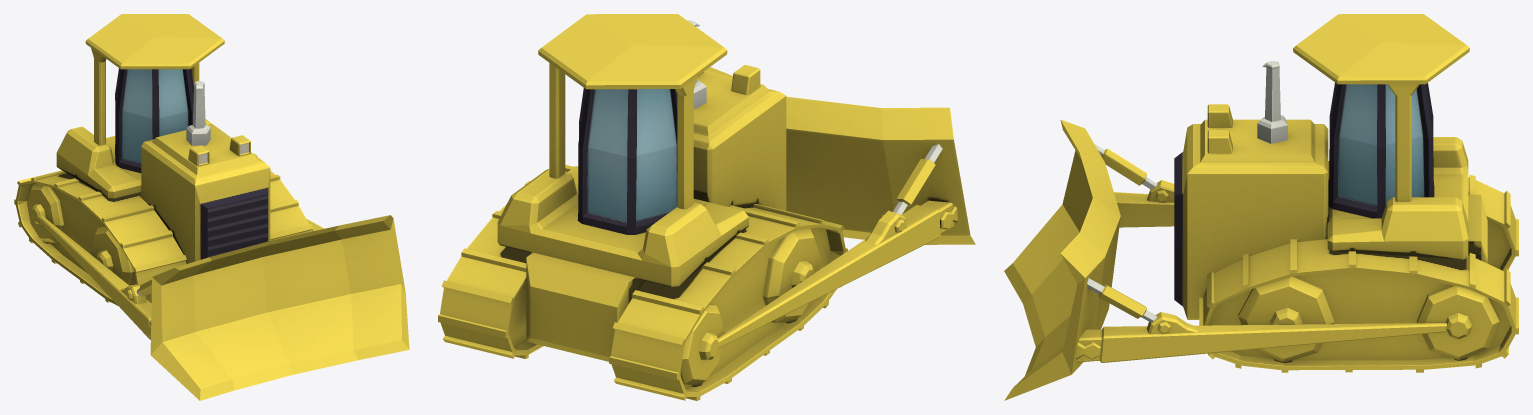
3 renders of one model, left to right at view 1: azimuth 30°, elevation 25°; view 2: azimuth 150°, elevation 25°; view 3: azimuth 270°, elevation 25°, orthographic. The views are drawn at different scales.
Parts seen in each view (by area): view 1: Bulldozer_mesh; view 2: Bulldozer_mesh; view 3: Bulldozer_mesh.
Boxes of the visible parts, box(x1,y1,x2,y2) form: Bulldozer_mesh: box(14, 14, 409, 400); Bulldozer_mesh: box(438, 14, 975, 400); Bulldozer_mesh: box(1004, 14, 1518, 400).
Size of the model in its own units: 12.85 by 11.52 by 17.68.
1 material, 1 textured.
